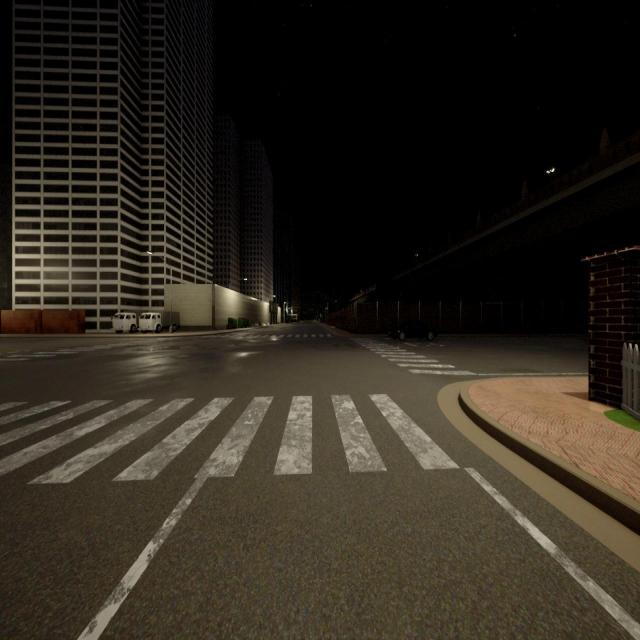Vehicle: (390, 318, 440, 342), (139, 311, 180, 334), (112, 311, 140, 334)
